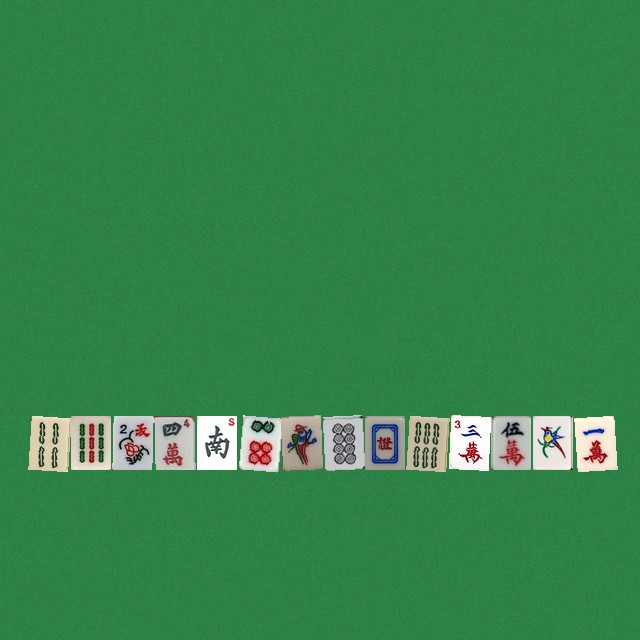tile: (28, 415, 68, 469), (70, 415, 110, 469), (112, 415, 152, 469), (154, 415, 194, 469), (196, 415, 236, 469), (238, 415, 278, 469), (280, 415, 320, 469), (322, 415, 362, 469), (364, 415, 404, 469), (406, 415, 446, 469), (448, 415, 488, 469), (490, 415, 530, 469), (532, 415, 572, 469), (574, 415, 614, 469)
